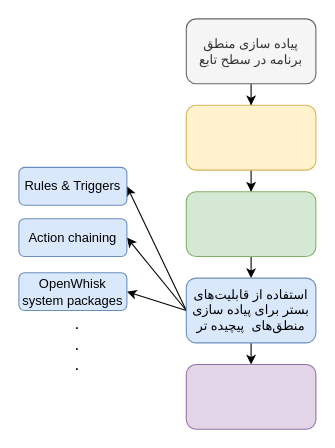
The diagram is 335 pixels wide and 448 high, and some of its shapes have lost their labels. The centre of each missing label's shape, as x and y in pixels:
"آپلود تابع‌ها در بستر برای اجرا" belongs at [250,223].
"تعریف وب اکشن‌ها برای ارائه‌ی سرویس به سرویس گیرنده" belongs at [250,396].
"توسعه‌ی تابع‌ها در ساختار اکشن" belongs at [250,137].
